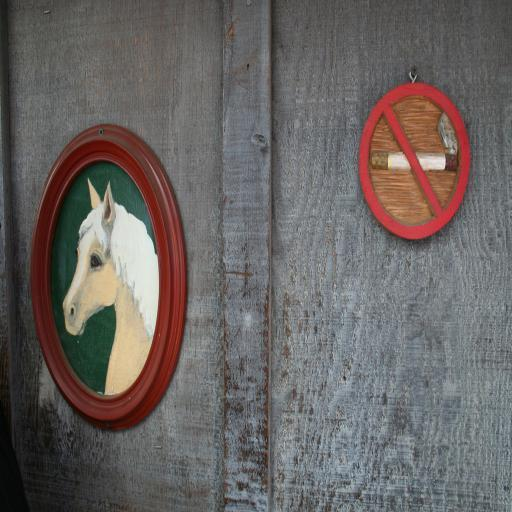horse: (59, 177, 162, 398)
